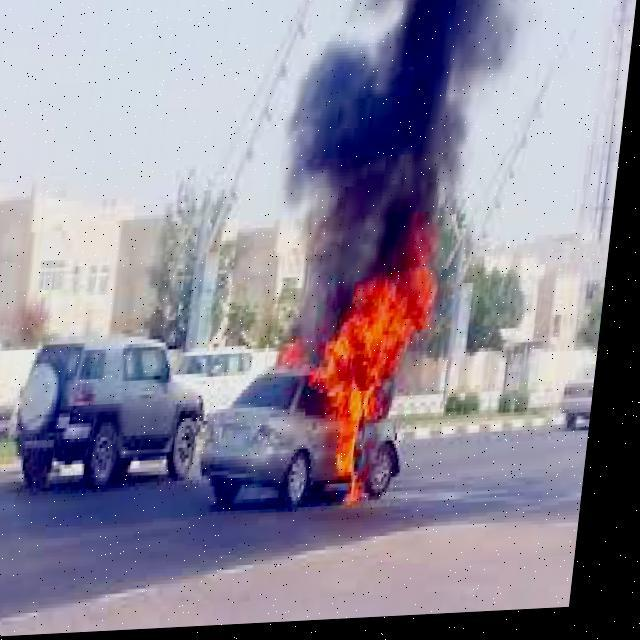Fire: (285, 223, 462, 512)
